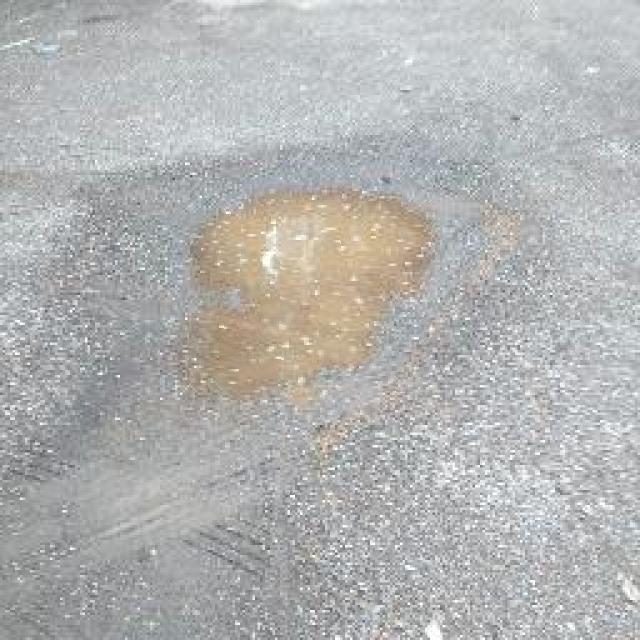puddle: (190, 180, 433, 392)
